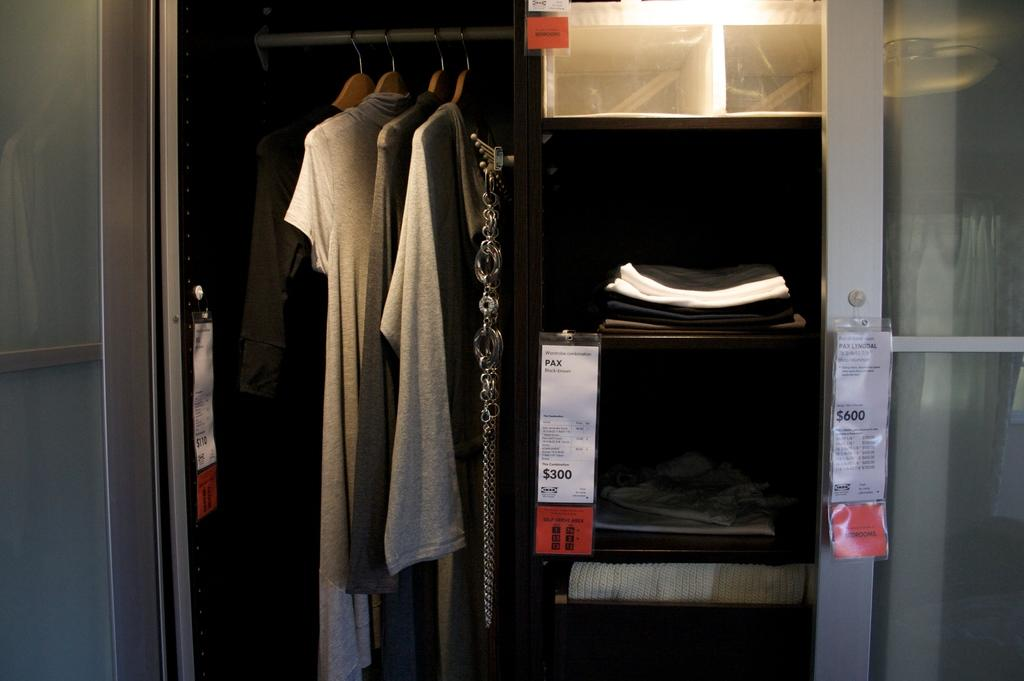cabinet_door: (827, 29, 1024, 664), (0, 4, 162, 672)
